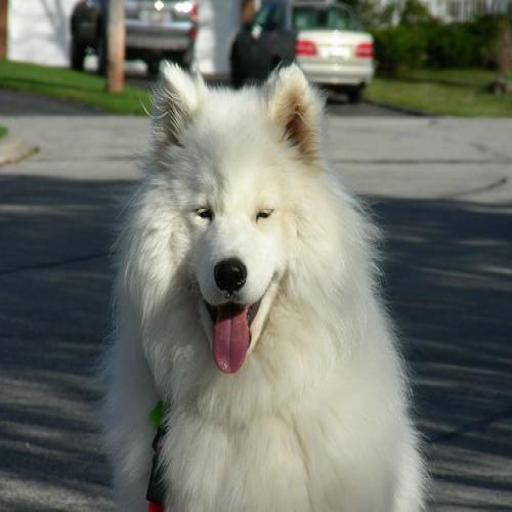dog_face: (151, 59, 311, 372)
